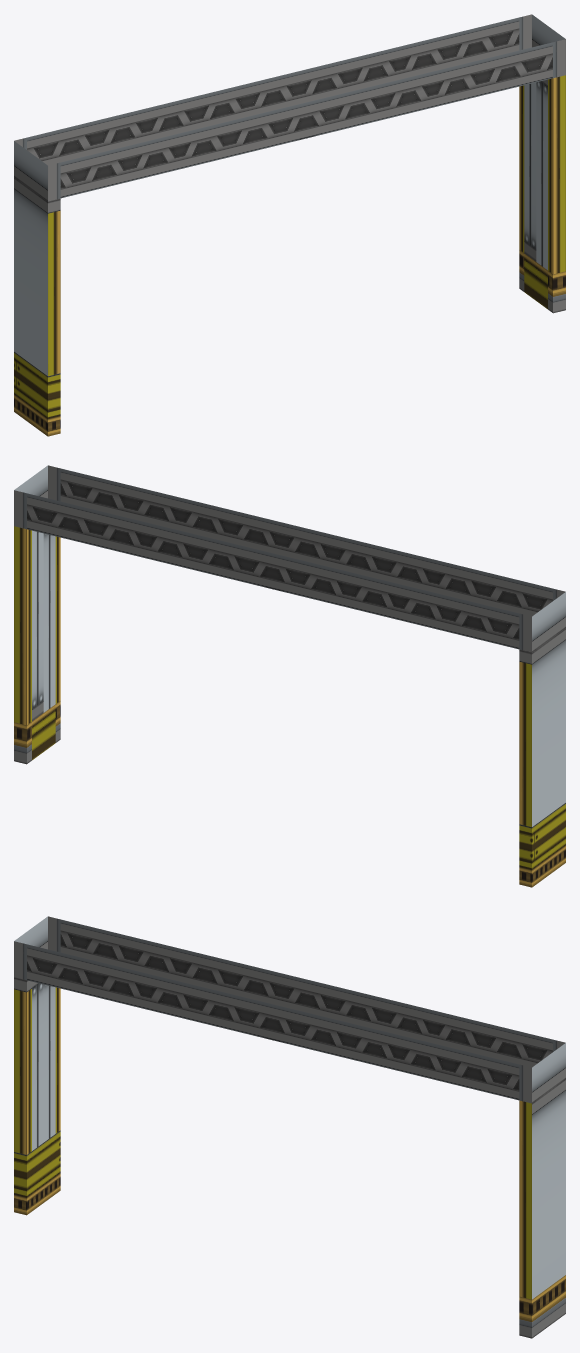
Rendered from SM_Env_Parts_01_frame_01.fbx.
The picture shows the model from 3 angles, top to bottom: view 1: azimuth 30°, elevation 25°; view 2: azimuth 150°, elevation 25°; view 3: azimuth 330°, elevation 25°; orthographic projection.
Visible parts, largest first — view 1: SM_Env_Parts_01_frame_01; view 2: SM_Env_Parts_01_frame_01; view 3: SM_Env_Parts_01_frame_01.
Part boxes in pixels (box(x1,y1,x2,y2)): SM_Env_Parts_01_frame_01: box(14, 14, 565, 436); SM_Env_Parts_01_frame_01: box(14, 465, 565, 887); SM_Env_Parts_01_frame_01: box(14, 916, 565, 1338).
Size of the model in its own units: 600 by 300 by 68.03.
Materials: 1 (1 with a texture image).
